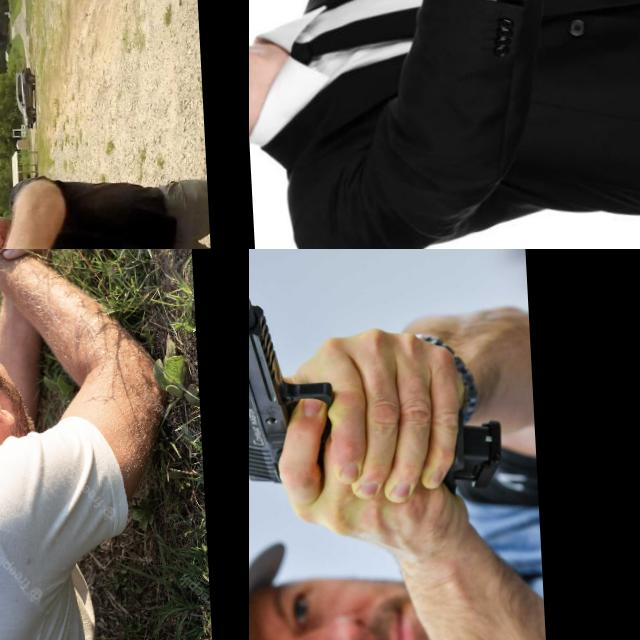handgun: (249, 278, 341, 494), (352, 0, 466, 88), (0, 249, 34, 321)
